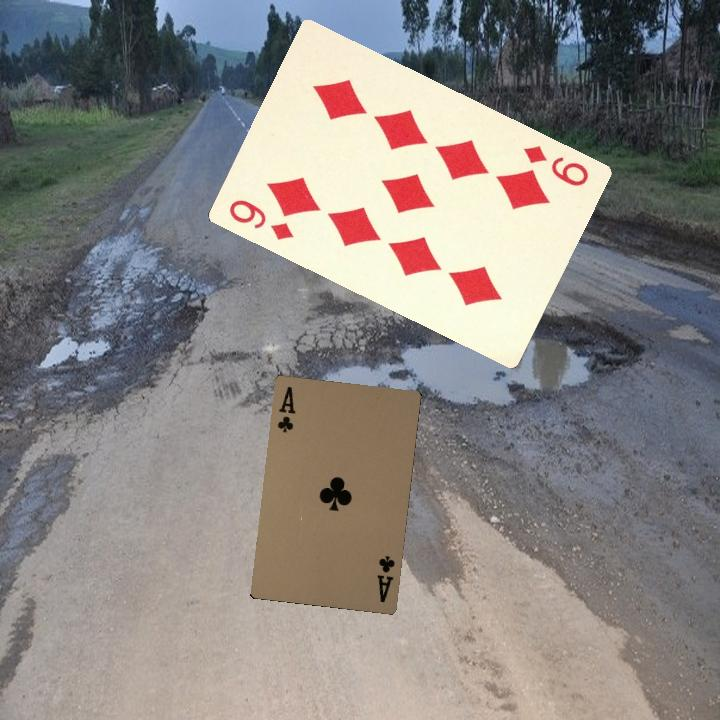9d: (224, 195, 297, 243), (519, 141, 591, 189)
Ac: (373, 552, 397, 605), (274, 382, 298, 435)
